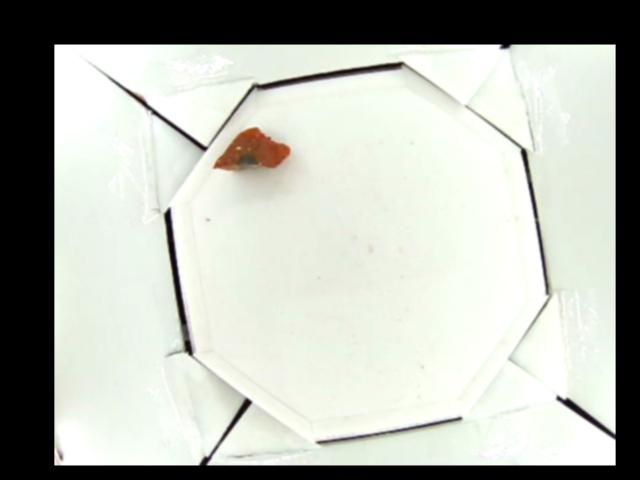Brisk: (211, 126, 292, 173)
